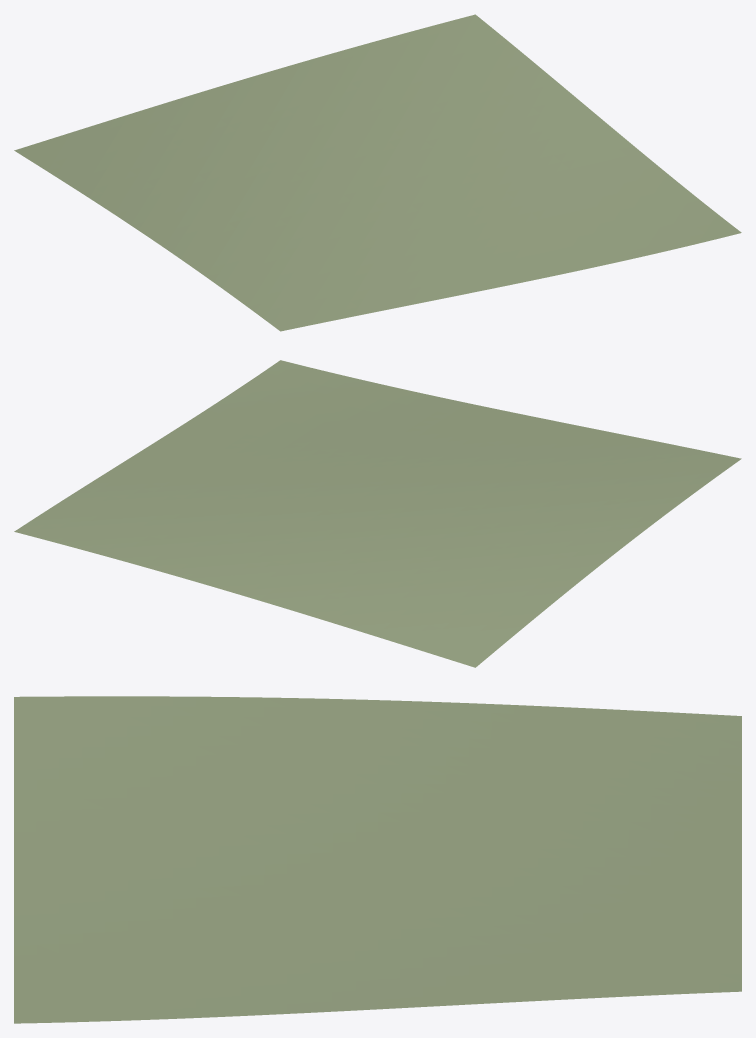
File: alpine-2-15.glb
The picture shows the model from 3 angles, top to bottom: view 1: azimuth 30°, elevation 25°; view 2: azimuth 150°, elevation 25°; view 3: azimuth 270°, elevation 25°; orthographic projection. The views are drawn at different scales.
Visible parts, largest first — view 1: alpine-2-15; view 2: alpine-2-15; view 3: alpine-2-15.
Part boxes in pixels (<box>): alpine-2-15: <box>14,14,741,331</box>; alpine-2-15: <box>14,360,741,667</box>; alpine-2-15: <box>14,696,741,1023</box>.
Size of the model in its own units: 256 by 12.47 by 256.
